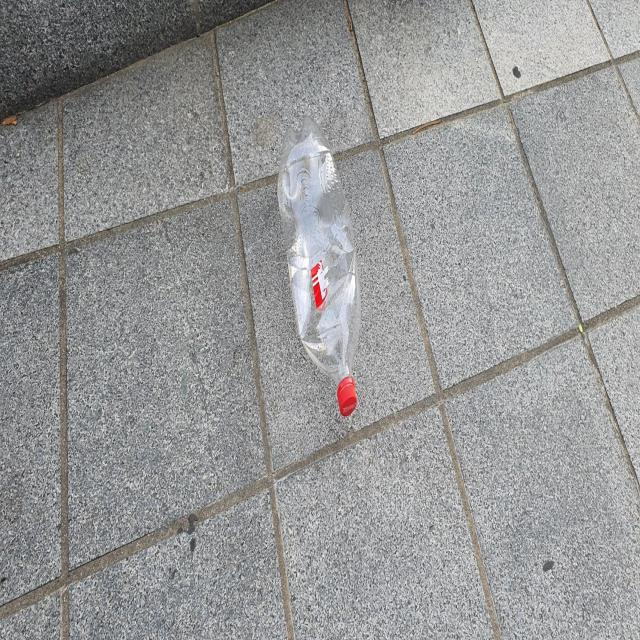plastic: (277, 115, 361, 416)
